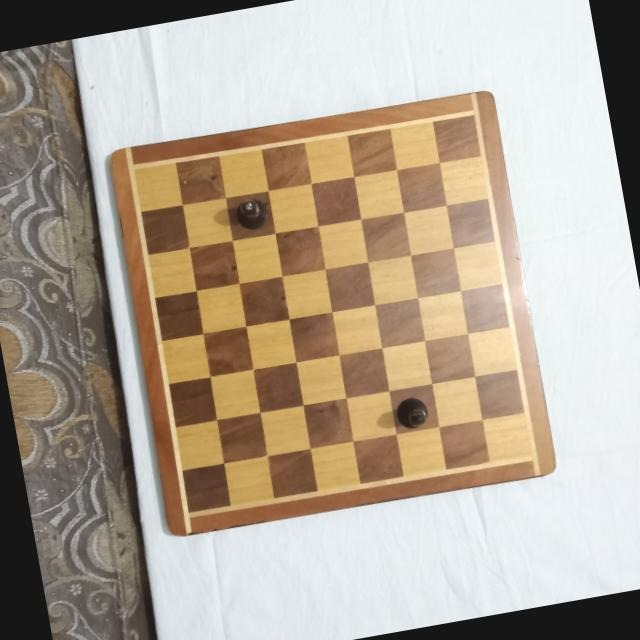black-bishop: (230, 195, 269, 233), (393, 393, 431, 431)
